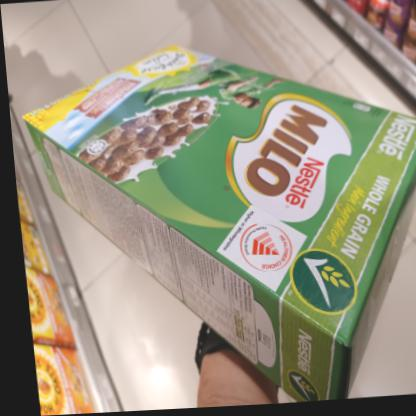i: (12, 28, 415, 415)
